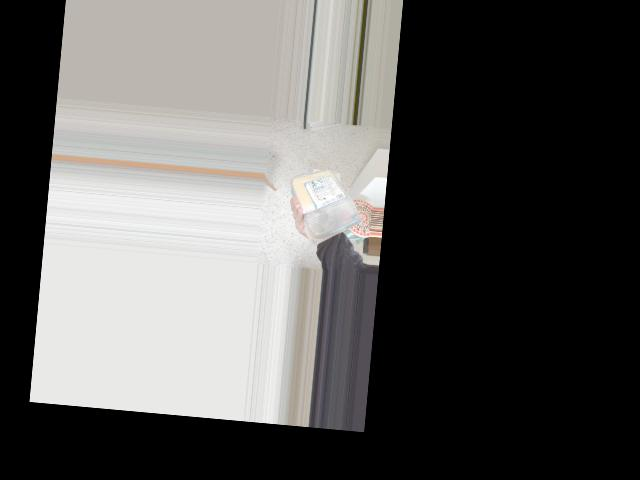cheese: (294, 160, 367, 240)
